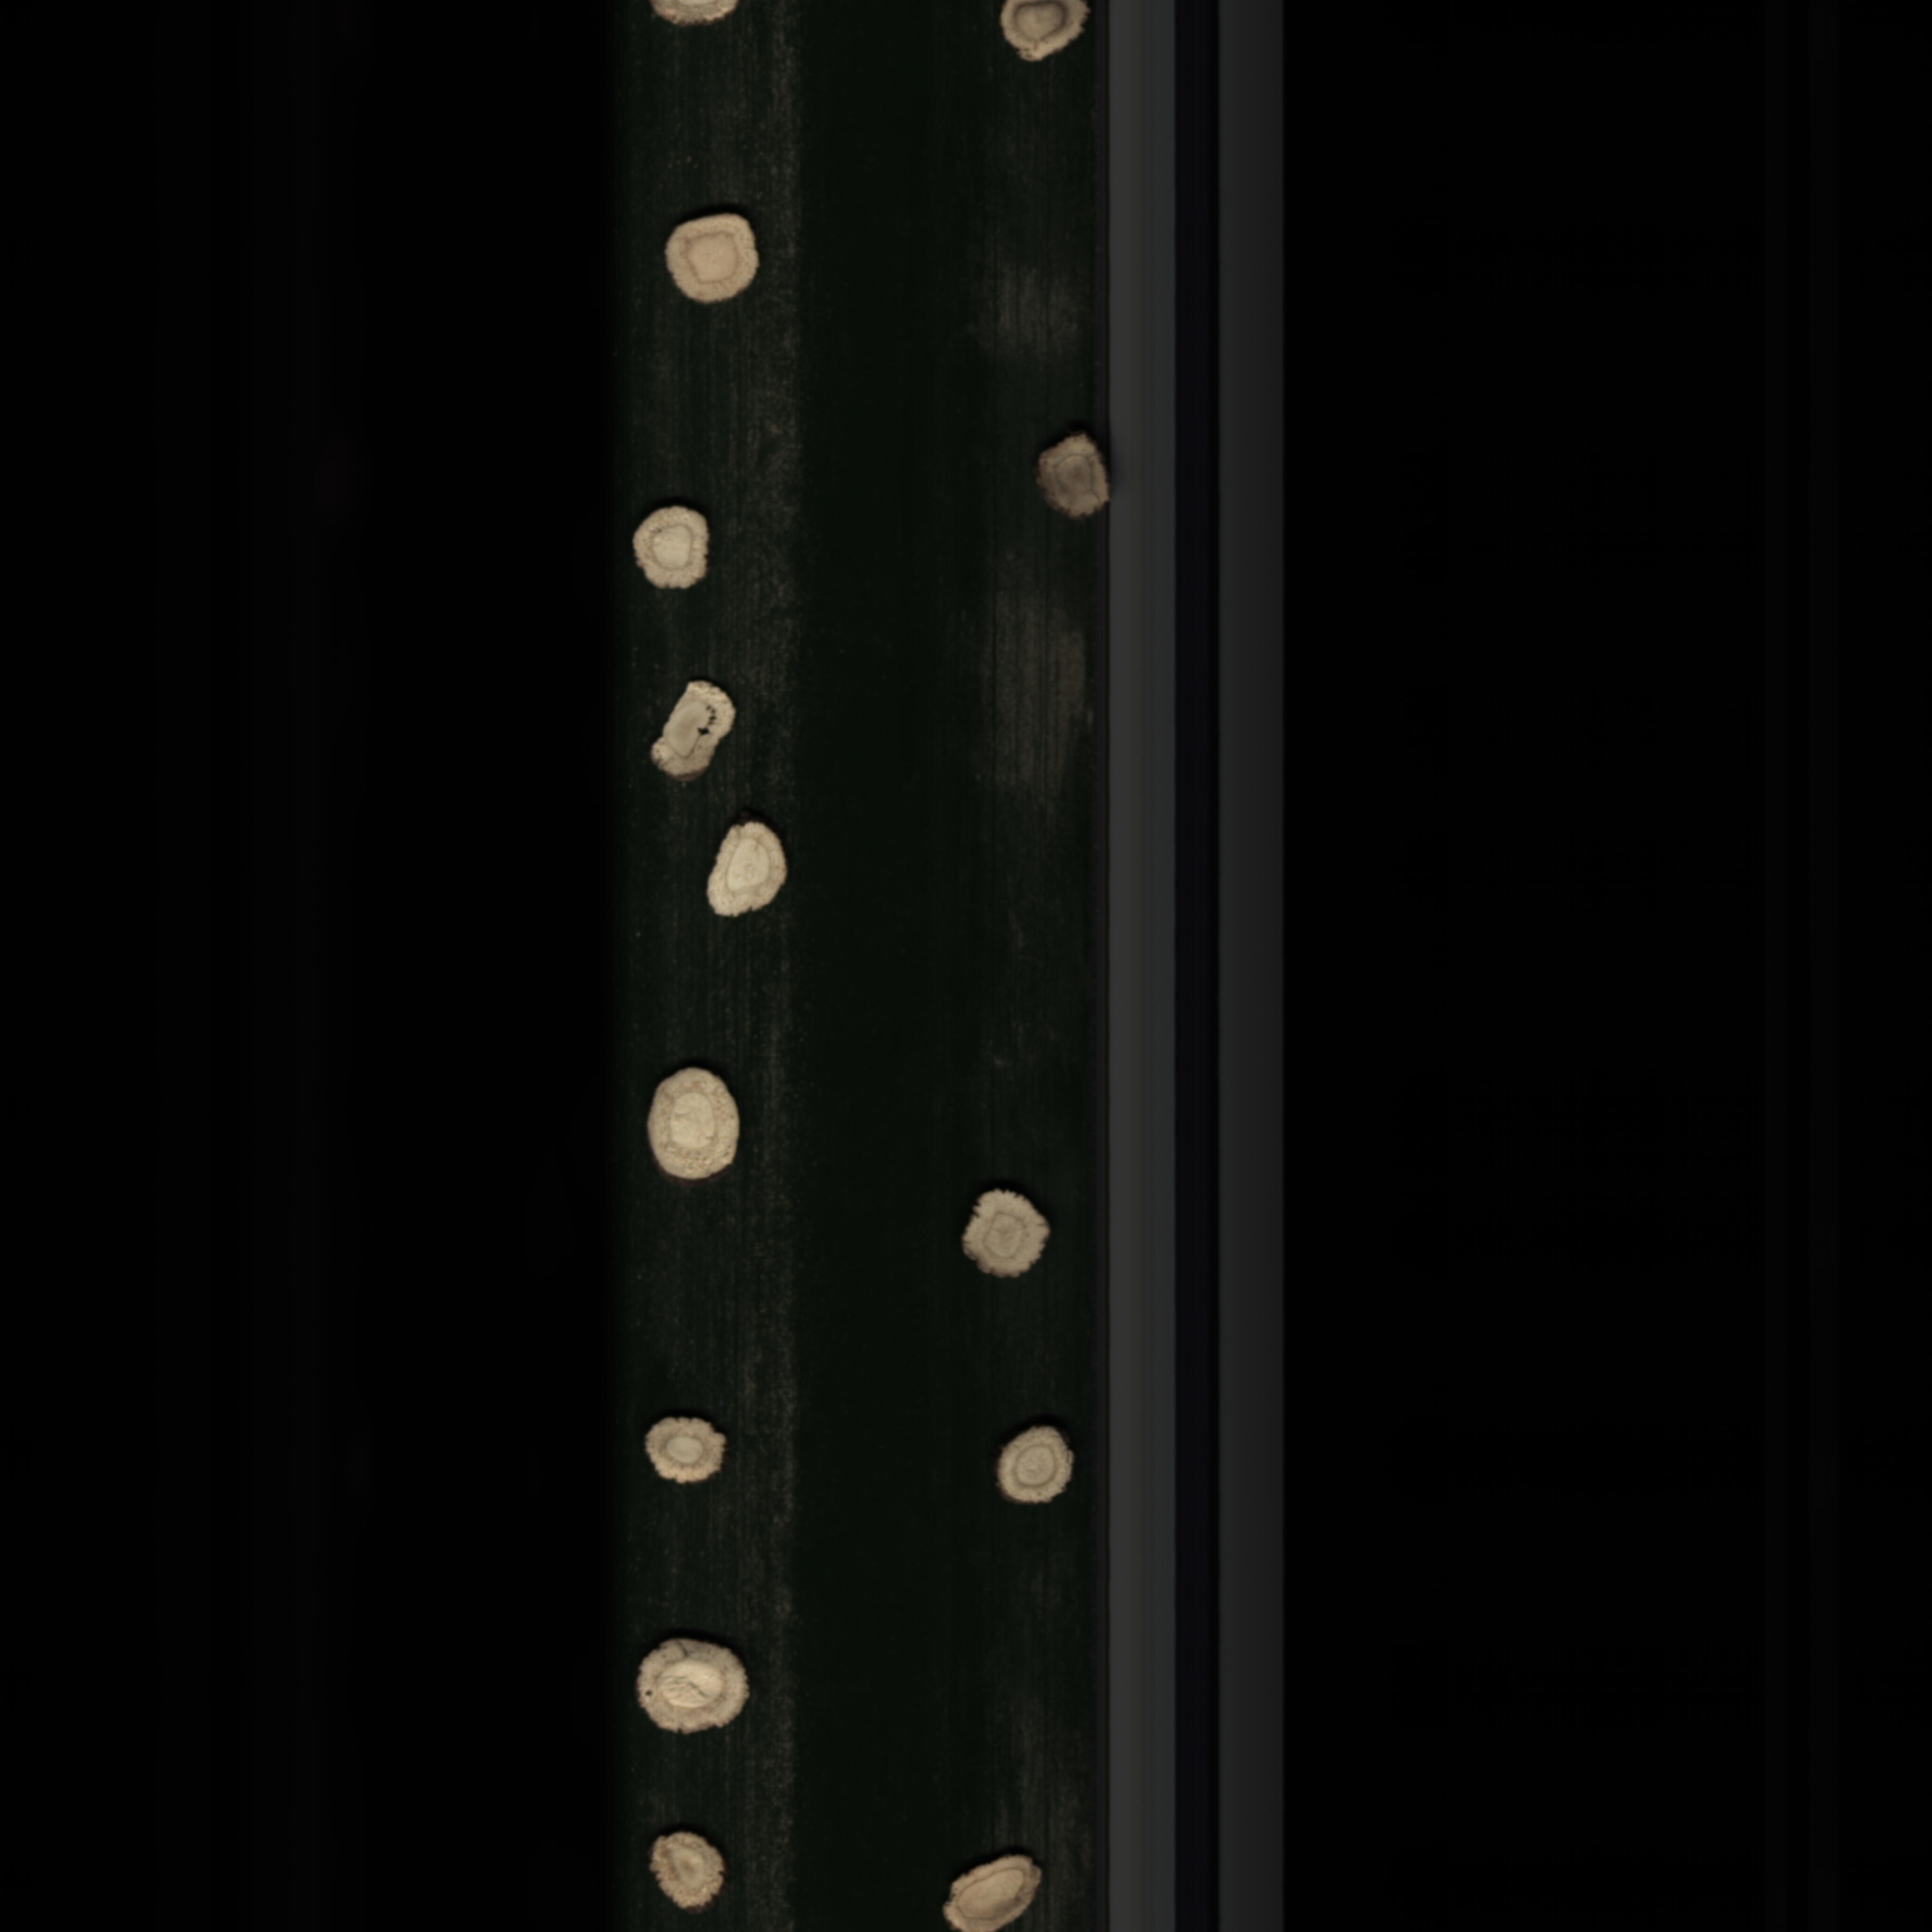debris: (635, 672, 748, 789)
moldy: (1021, 428, 1120, 525)
